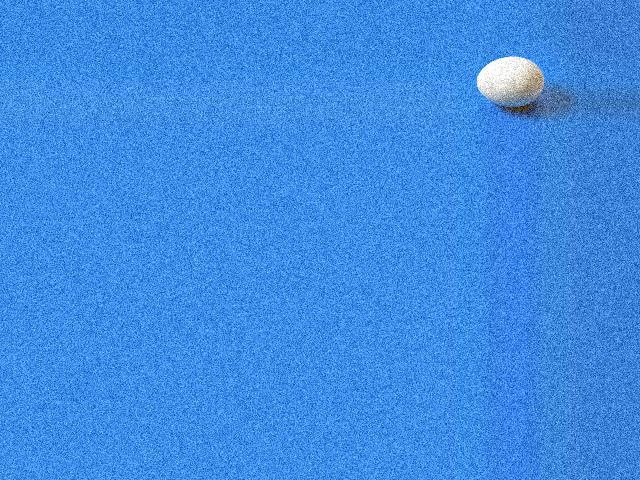egg: (476, 56, 545, 107)
